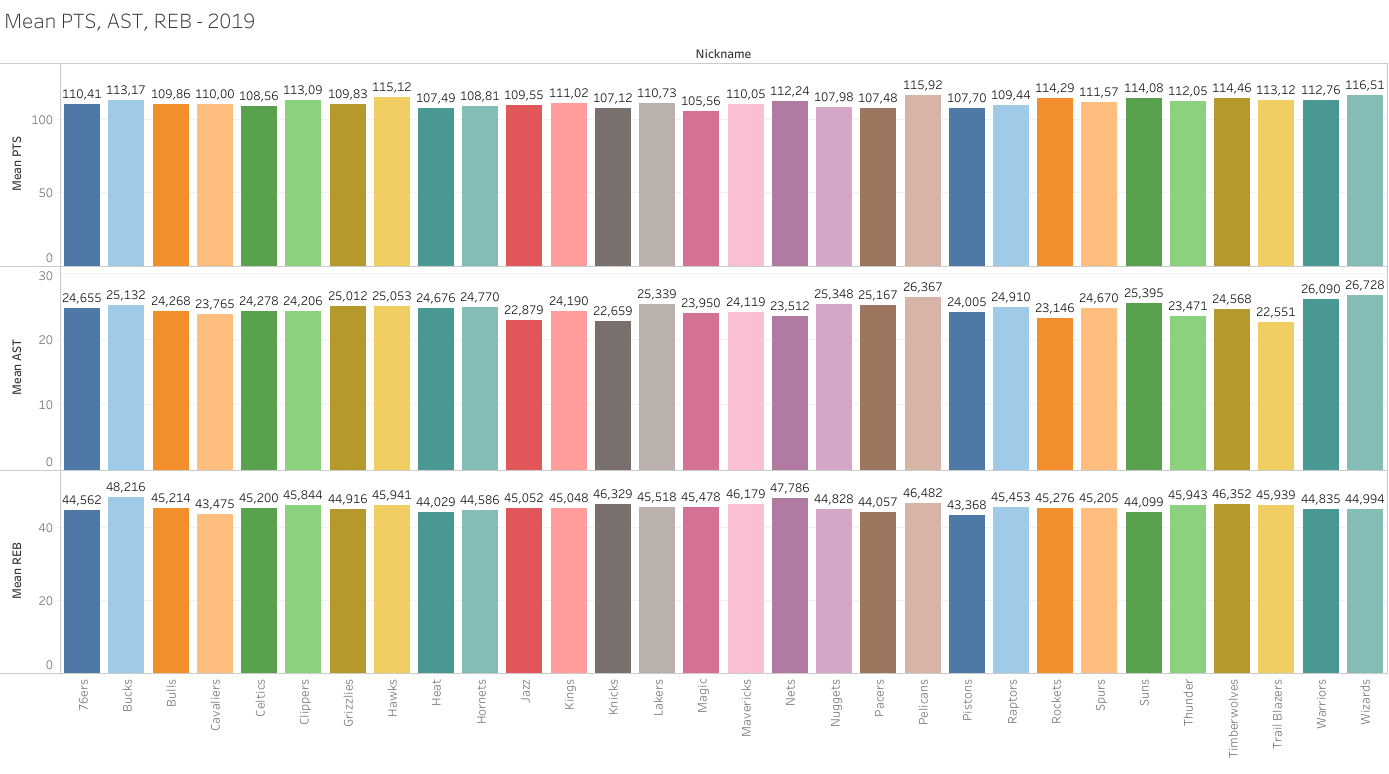

The dashboard page shown, as its layout file describes it:
{"tool":"tableau","page":{"name":"Dashboard 1","canvas":[1000,800],"ordinal":0},"visuals":[{"type":"currpage","title":"Mean PTS, AST, REB","box":[8,8,984,88]},{"type":"worksheet","title":"Mean PTS, AST, REB","mark":"Automatic","rows":["Mean PTS","Mean AST","Mean REB"],"cols":["NICKNAME"],"box":[8,96,984,696]}]}

Visuals, with their boxes on the page's 1000x800 design canvas (x1, y1, x2, y2). These are canvas units, not pixel positions in the 1389x774 screenshot, which may show the page scaled, cropped or inside an application window:
"Mean PTS, AST, REB" currpage: left=8, top=8, right=992, bottom=96
"Mean PTS, AST, REB" worksheet: left=8, top=96, right=992, bottom=792
